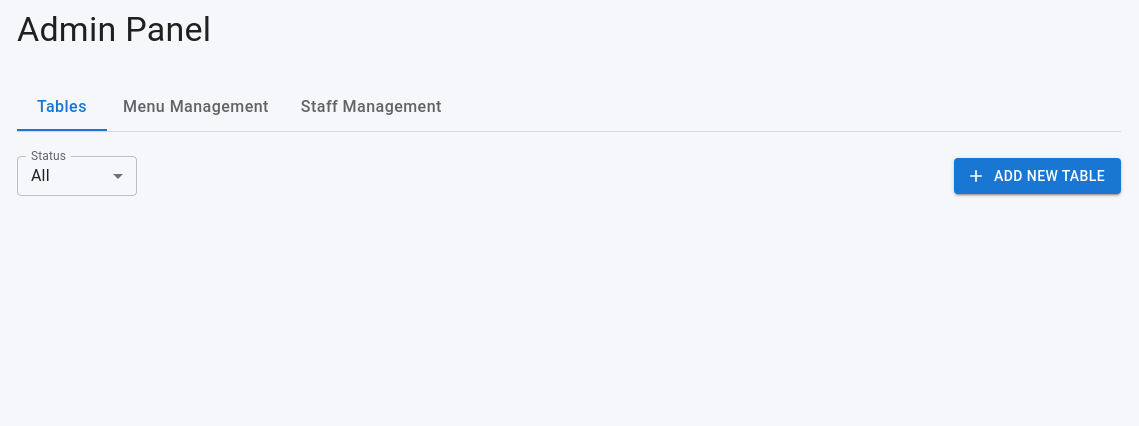
AdminPage › handles tab switching to Menu Management
Click the tab "Menu Management".
click(196, 107)  # box [107,83,285,131]
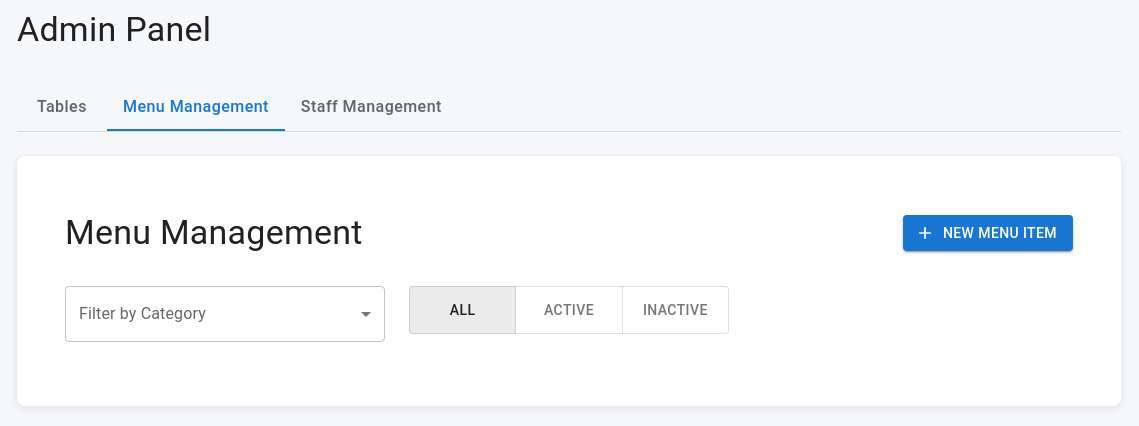
Now the heading "Menu Management" is shown, box [65,212,363,254]
